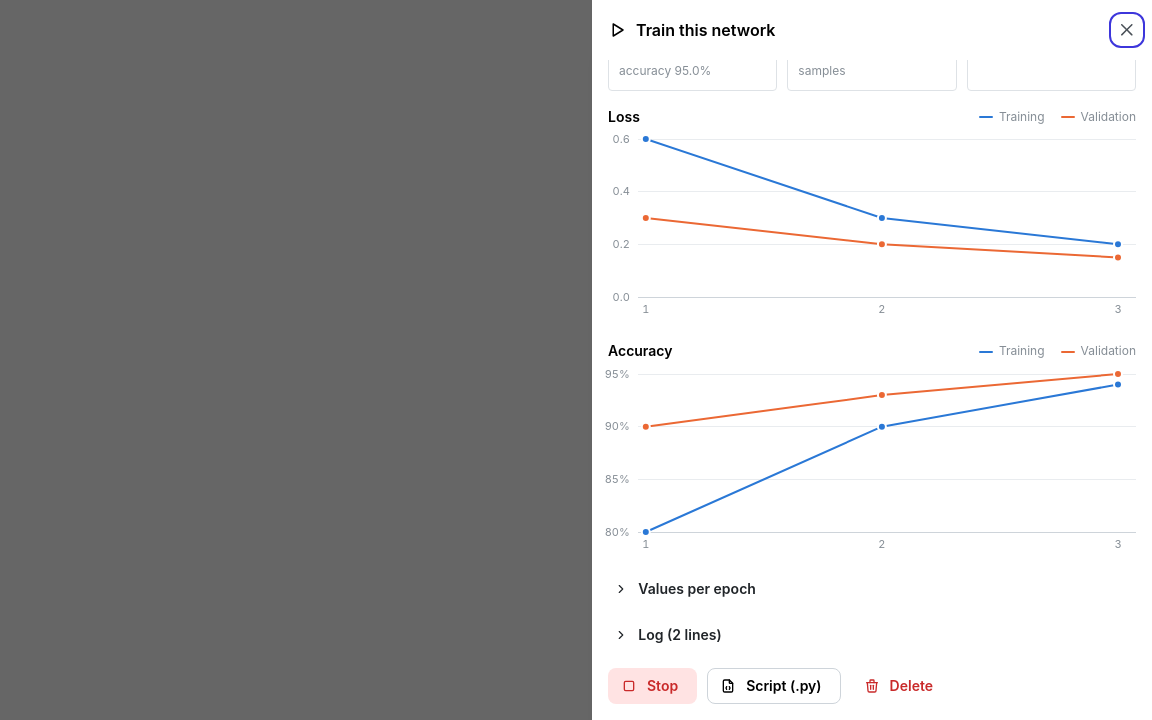
it: TrainingDrawer › shows progress, metrics and charts of a run
The image size is (1152, 720).
(page scrolled)
Expected: the slider named "Accuracy" is shown, [608,366,1136,556]
Step 1. Click the button "Values per epoch" → (686, 589), box [608,576,765,602]
(page scrolled)
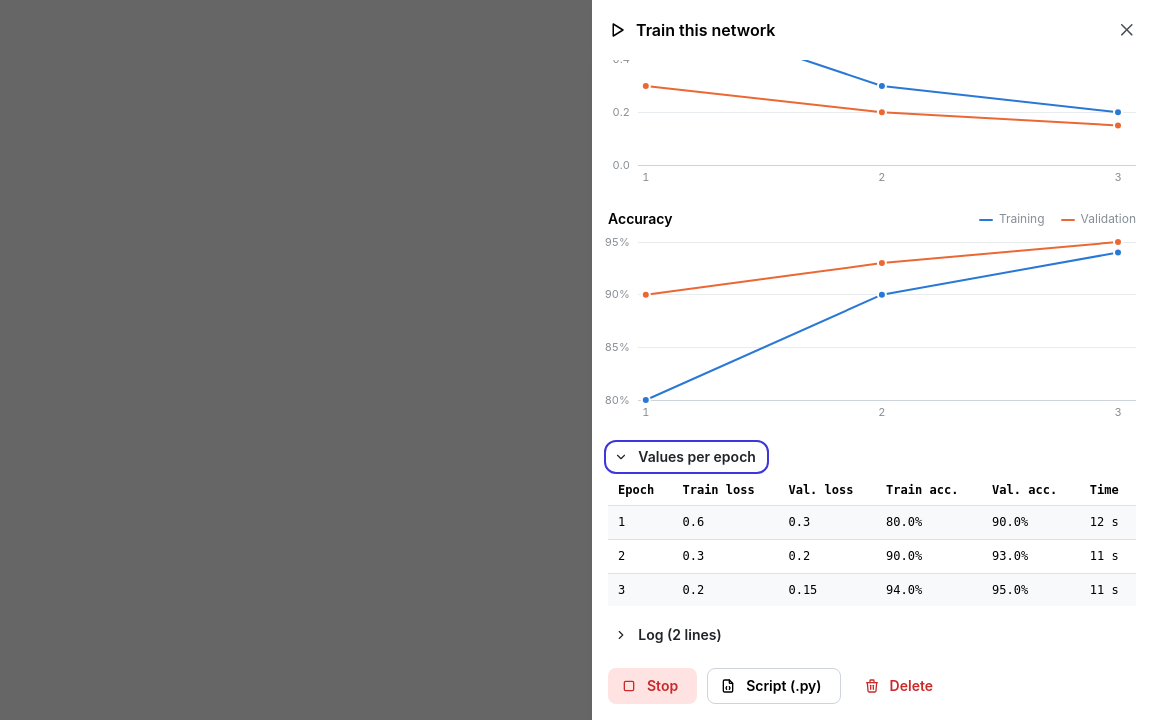
Expected: the number of rows is 4, [608,474,1136,506]; [608,506,1136,539]; [608,539,1136,573]; [608,573,1136,606]
Step 2. Click the button "Log (2 lines)" → (669, 635), box [608,622,731,648]
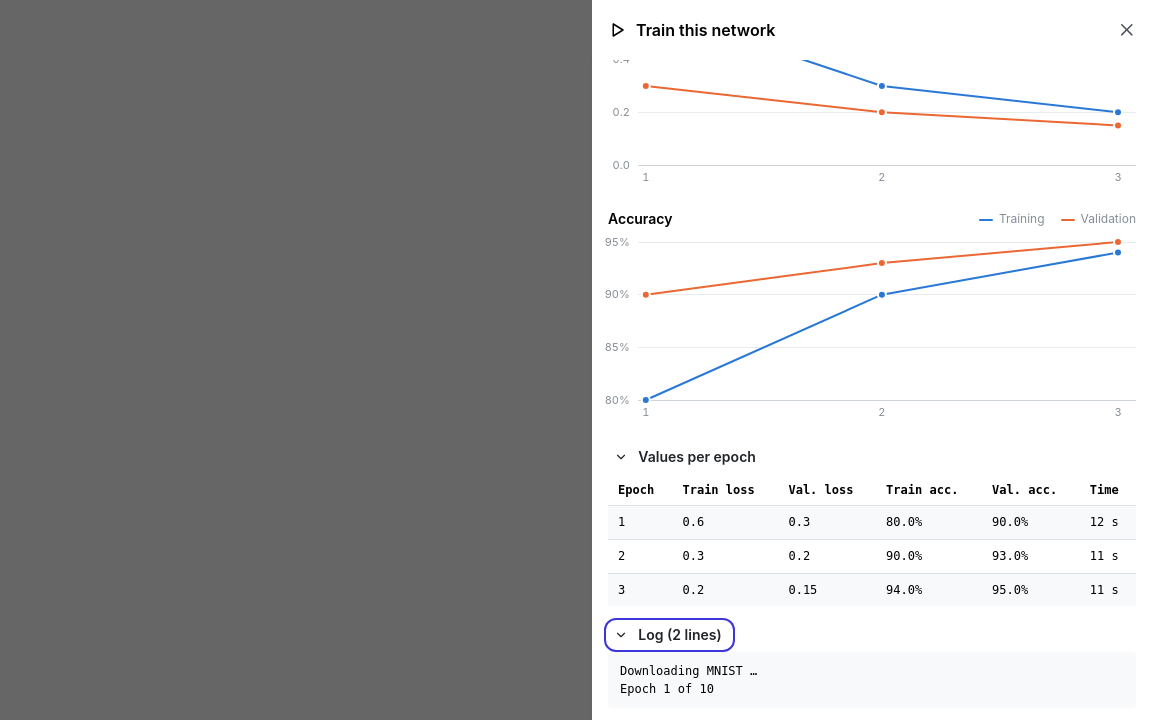
Expected: the text "Downloading MNIST … Epoch 1 of 10" is shown, [608,652,1136,708]
